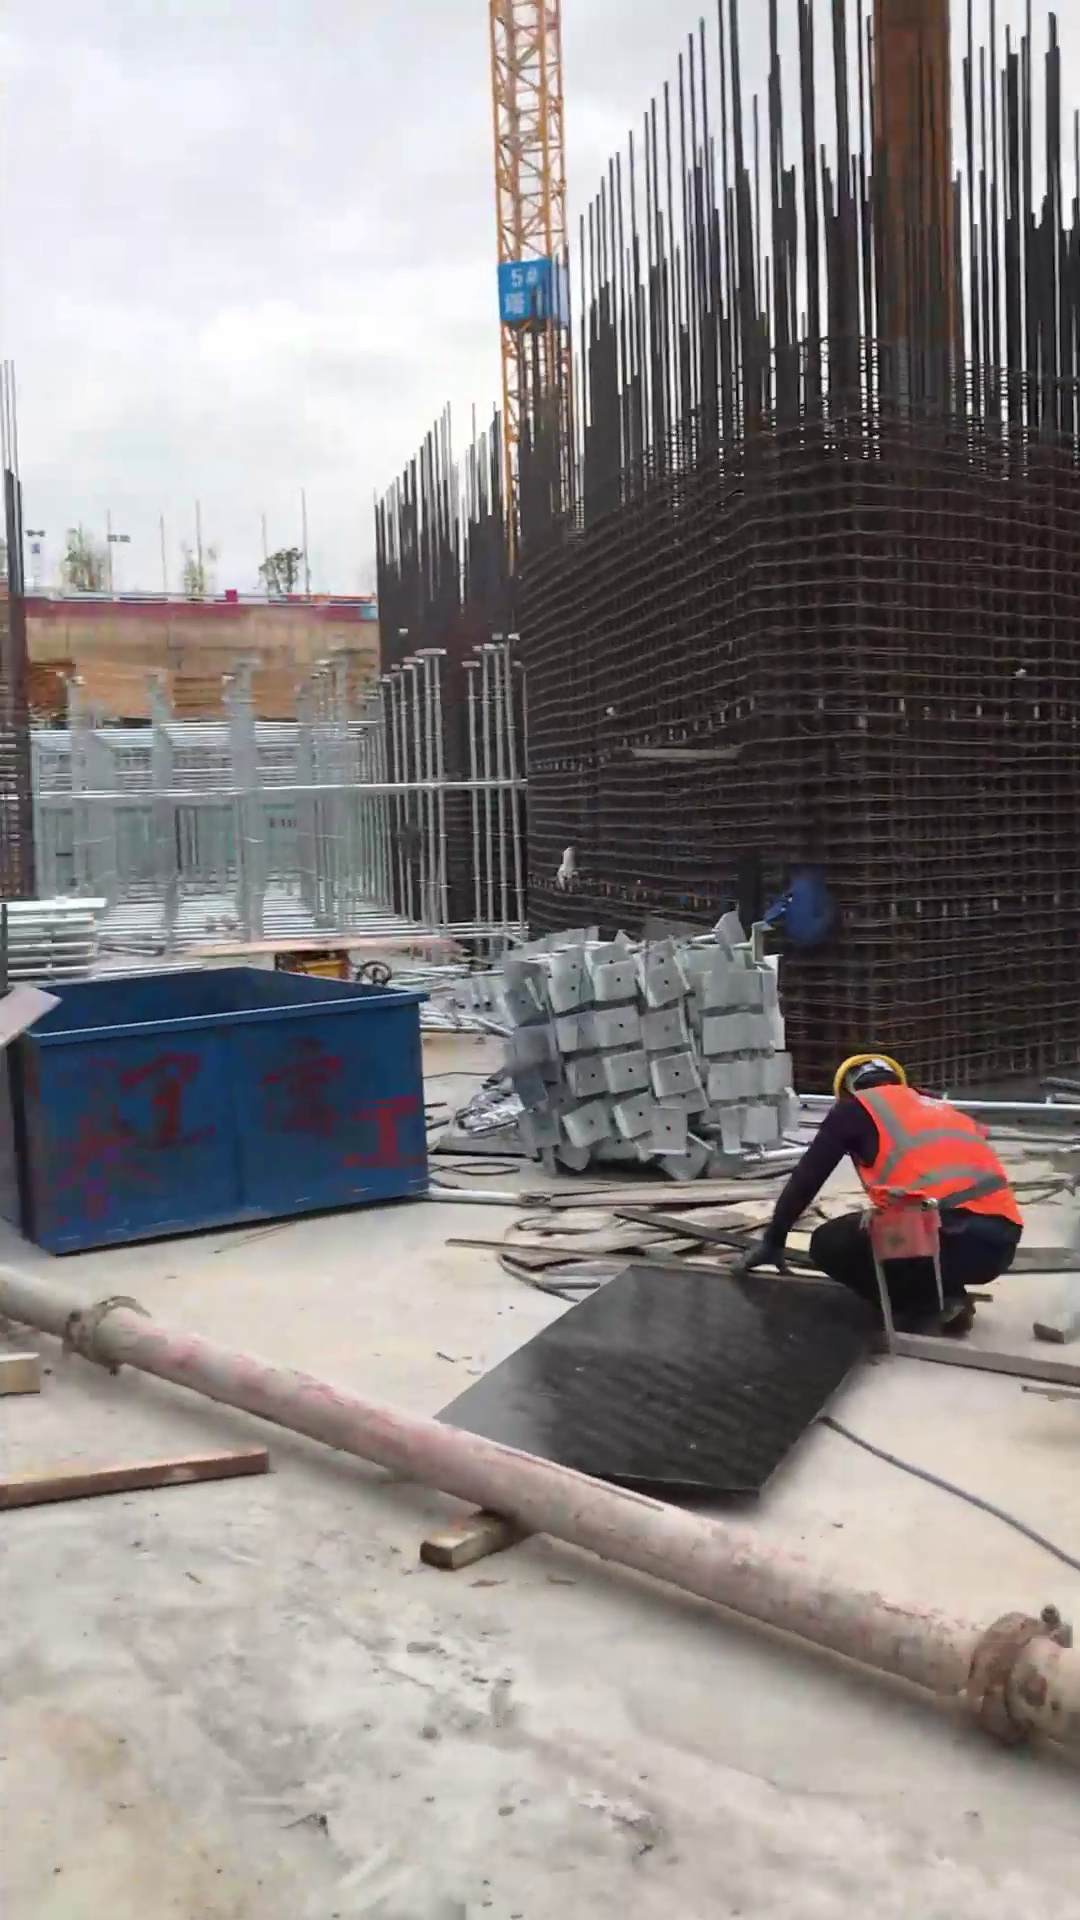cutter: (206, 915, 466, 994)
helmet: (826, 1051, 911, 1101)
hopper: (1, 944, 449, 1283)
person: (728, 1037, 1040, 1354)
vest: (833, 1082, 1030, 1232)
